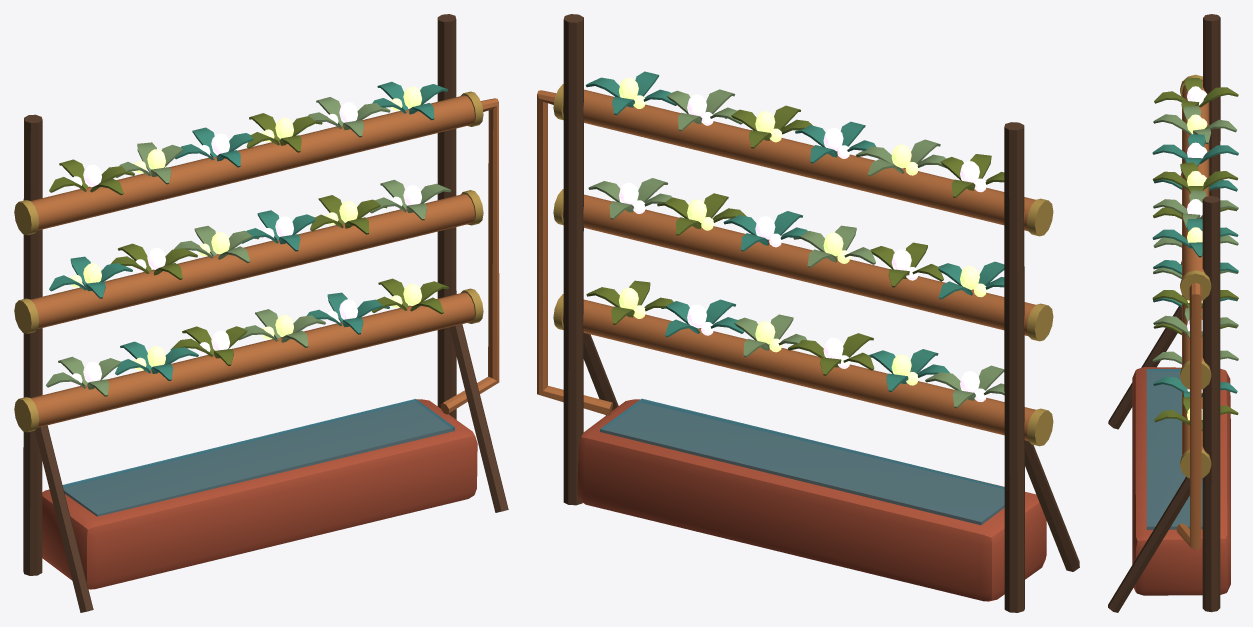
Rendered from deco_hydroponic_wall.fbx.
3 renders of one model, left to right at view 1: azimuth 30°, elevation 25°; view 2: azimuth 150°, elevation 25°; view 3: azimuth 270°, elevation 25°, orthographic. The views are drawn at different scales.
Visible parts, largest first — view 1: Hydroponic_Wall_Reservoir, Hydroponic_Wall_Frame, Hydroponic_Wall_Pipe1, Hydroponic_Wall_Pipe2, Hydroponic_Wall_Pipe3, Hydroponic_Wall_Plants1, Hydroponic_Wall_Plants2, Hydroponic_Wall_Plants3, Hydroponic_Wall_ReturnPipe; view 2: Hydroponic_Wall_Reservoir, Hydroponic_Wall_Frame, Hydroponic_Wall_Pipe1, Hydroponic_Wall_Pipe3, Hydroponic_Wall_Pipe2, Hydroponic_Wall_Plants2, Hydroponic_Wall_Plants1, Hydroponic_Wall_Plants3, Hydroponic_Wall_ReturnPipe; view 3: Hydroponic_Wall_Reservoir, Hydroponic_Wall_Frame, Hydroponic_Wall_Plants3, Hydroponic_Wall_ReturnPipe, Hydroponic_Wall_Plants2, Hydroponic_Wall_Pipe3, Hydroponic_Wall_Plants1, Hydroponic_Wall_Pipe2, Hydroponic_Wall_Pipe1.
Boxes of the visible parts, x1,y1,x2,y2 form: Hydroponic_Wall_Reservoir: [42, 399, 477, 589]; Hydroponic_Wall_Frame: [23, 14, 508, 612]; Hydroponic_Wall_Pipe1: [14, 288, 483, 432]; Hydroponic_Wall_Pipe2: [14, 190, 483, 333]; Hydroponic_Wall_Pipe3: [14, 91, 483, 235]; Hydroponic_Wall_Plants1: [46, 278, 448, 396]; Hydroponic_Wall_Plants2: [49, 179, 451, 298]; Hydroponic_Wall_Plants3: [49, 81, 448, 195]; Hydroponic_Wall_ReturnPipe: [440, 98, 499, 414]; Hydroponic_Wall_Reservoir: [577, 398, 1046, 601]; Hydroponic_Wall_Frame: [563, 14, 1079, 612]; Hydroponic_Wall_Pipe1: [553, 294, 1053, 446]; Hydroponic_Wall_Pipe3: [553, 84, 1053, 236]; Hydroponic_Wall_Pipe2: [553, 189, 1053, 341]; Hydroponic_Wall_Plants2: [588, 178, 1004, 299]; Hydroponic_Wall_Plants1: [586, 280, 1004, 408]; Hydroponic_Wall_Plants3: [585, 71, 1004, 197]; Hydroponic_Wall_ReturnPipe: [537, 90, 612, 415]; Hydroponic_Wall_Reservoir: [1132, 367, 1230, 595]; Hydroponic_Wall_Frame: [1108, 14, 1220, 612]; Hydroponic_Wall_Plants3: [1152, 78, 1238, 257]; Hydroponic_Wall_ReturnPipe: [1176, 282, 1201, 549]; Hydroponic_Wall_Plants2: [1152, 179, 1238, 338]; Hydroponic_Wall_Pipe3: [1180, 74, 1211, 300]; Hydroponic_Wall_Plants1: [1152, 267, 1238, 431]; Hydroponic_Wall_Pipe2: [1180, 172, 1211, 389]; Hydroponic_Wall_Pipe1: [1180, 261, 1211, 478].
Bounding box in the file's own units: 252 × 232 × 66.66.
